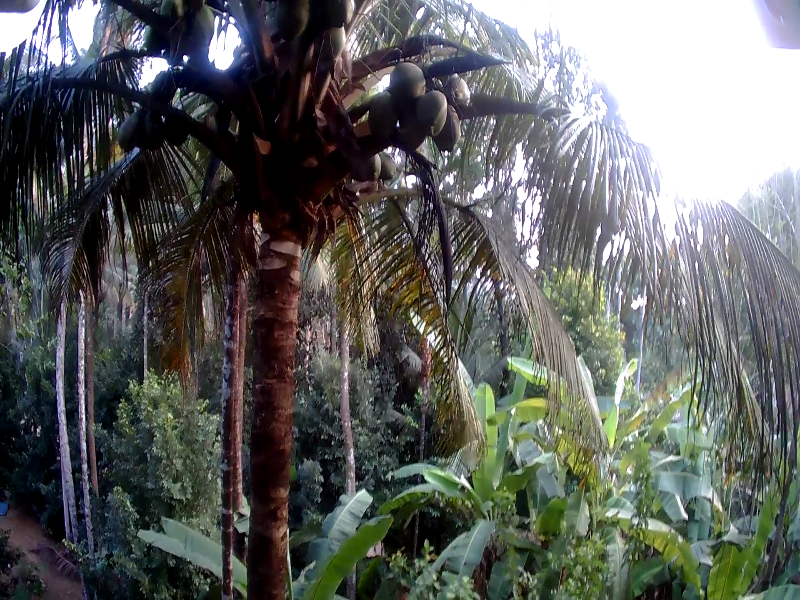coconut: (368, 90, 415, 141), (432, 112, 464, 154), (395, 61, 428, 100), (414, 95, 446, 134), (268, 3, 301, 39), (316, 1, 355, 30), (156, 120, 189, 153), (321, 26, 349, 60), (446, 73, 470, 110), (115, 120, 141, 153), (141, 24, 165, 56), (138, 117, 158, 153), (358, 147, 378, 180), (378, 156, 400, 183)
